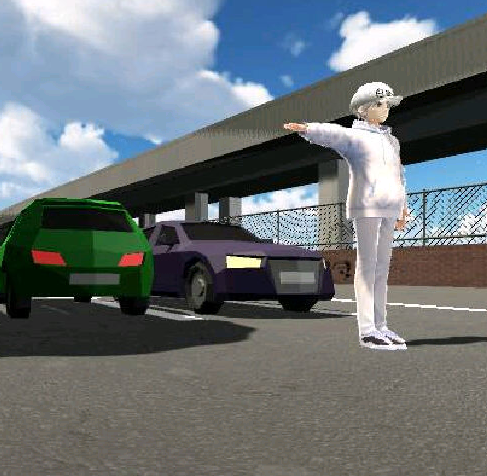singleP_left: (284, 82, 414, 356)
